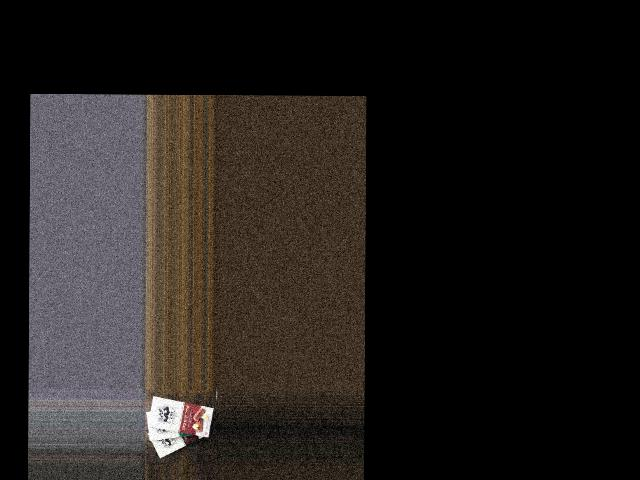chocolate: (146, 416, 213, 459)
